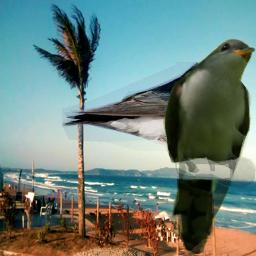Cuckoo: (163, 38, 256, 254)
Swallow: (62, 62, 222, 151)
